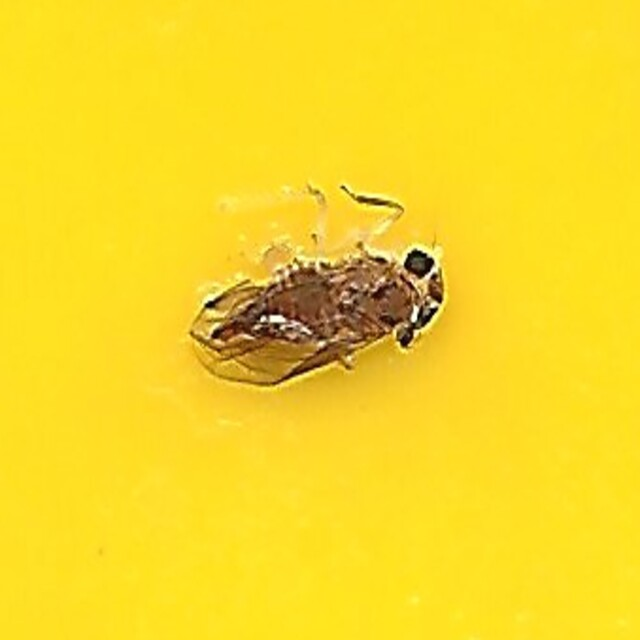Hemiptera: (189, 239, 451, 401)
